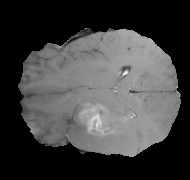Edema: (66, 96, 133, 149)
EnhancingTumors: (68, 97, 126, 138)
Necrosis: (68, 101, 123, 138)
